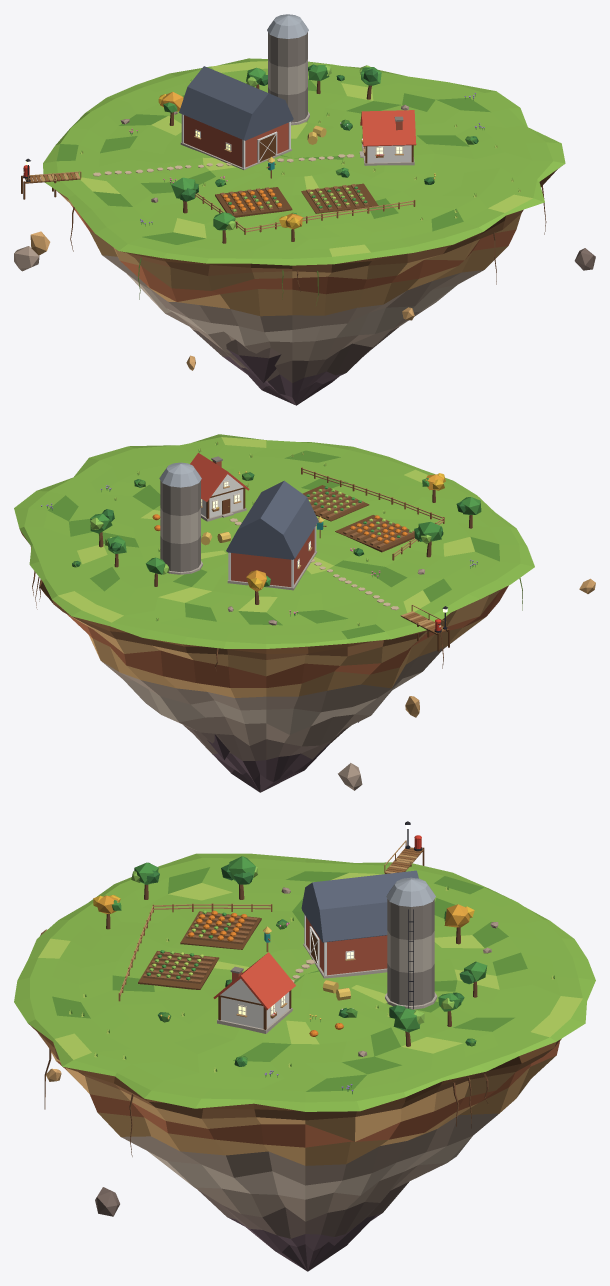
Rendered from island_farm.glb.
3 views of the same model, one above another, from view 1: azimuth 30°, elevation 25°; view 2: azimuth 150°, elevation 25°; view 3: azimuth 270°, elevation 25° (orthographic). The views are drawn at different scales.
Visible parts, largest first — view 1: Island-col, Dressing, Debris; view 2: Island-col, Dressing, Debris; view 3: Island-col, Dressing, Debris.
Part boxes in pixels (box(x1,y1,x2,y2)): Island-col: box(43, 58, 565, 405); Dressing: box(21, 14, 520, 243); Debris: box(14, 231, 595, 370); Island-col: box(14, 434, 534, 792); Dressing: box(41, 441, 481, 651); Debris: box(338, 578, 595, 790); Island-col: box(14, 853, 595, 1271); Dressing: box(69, 821, 554, 1094); Debris: box(40, 929, 119, 1216).
Size of what is drawn, in the model's own units: 73.14 by 53.88 by 68.86.
